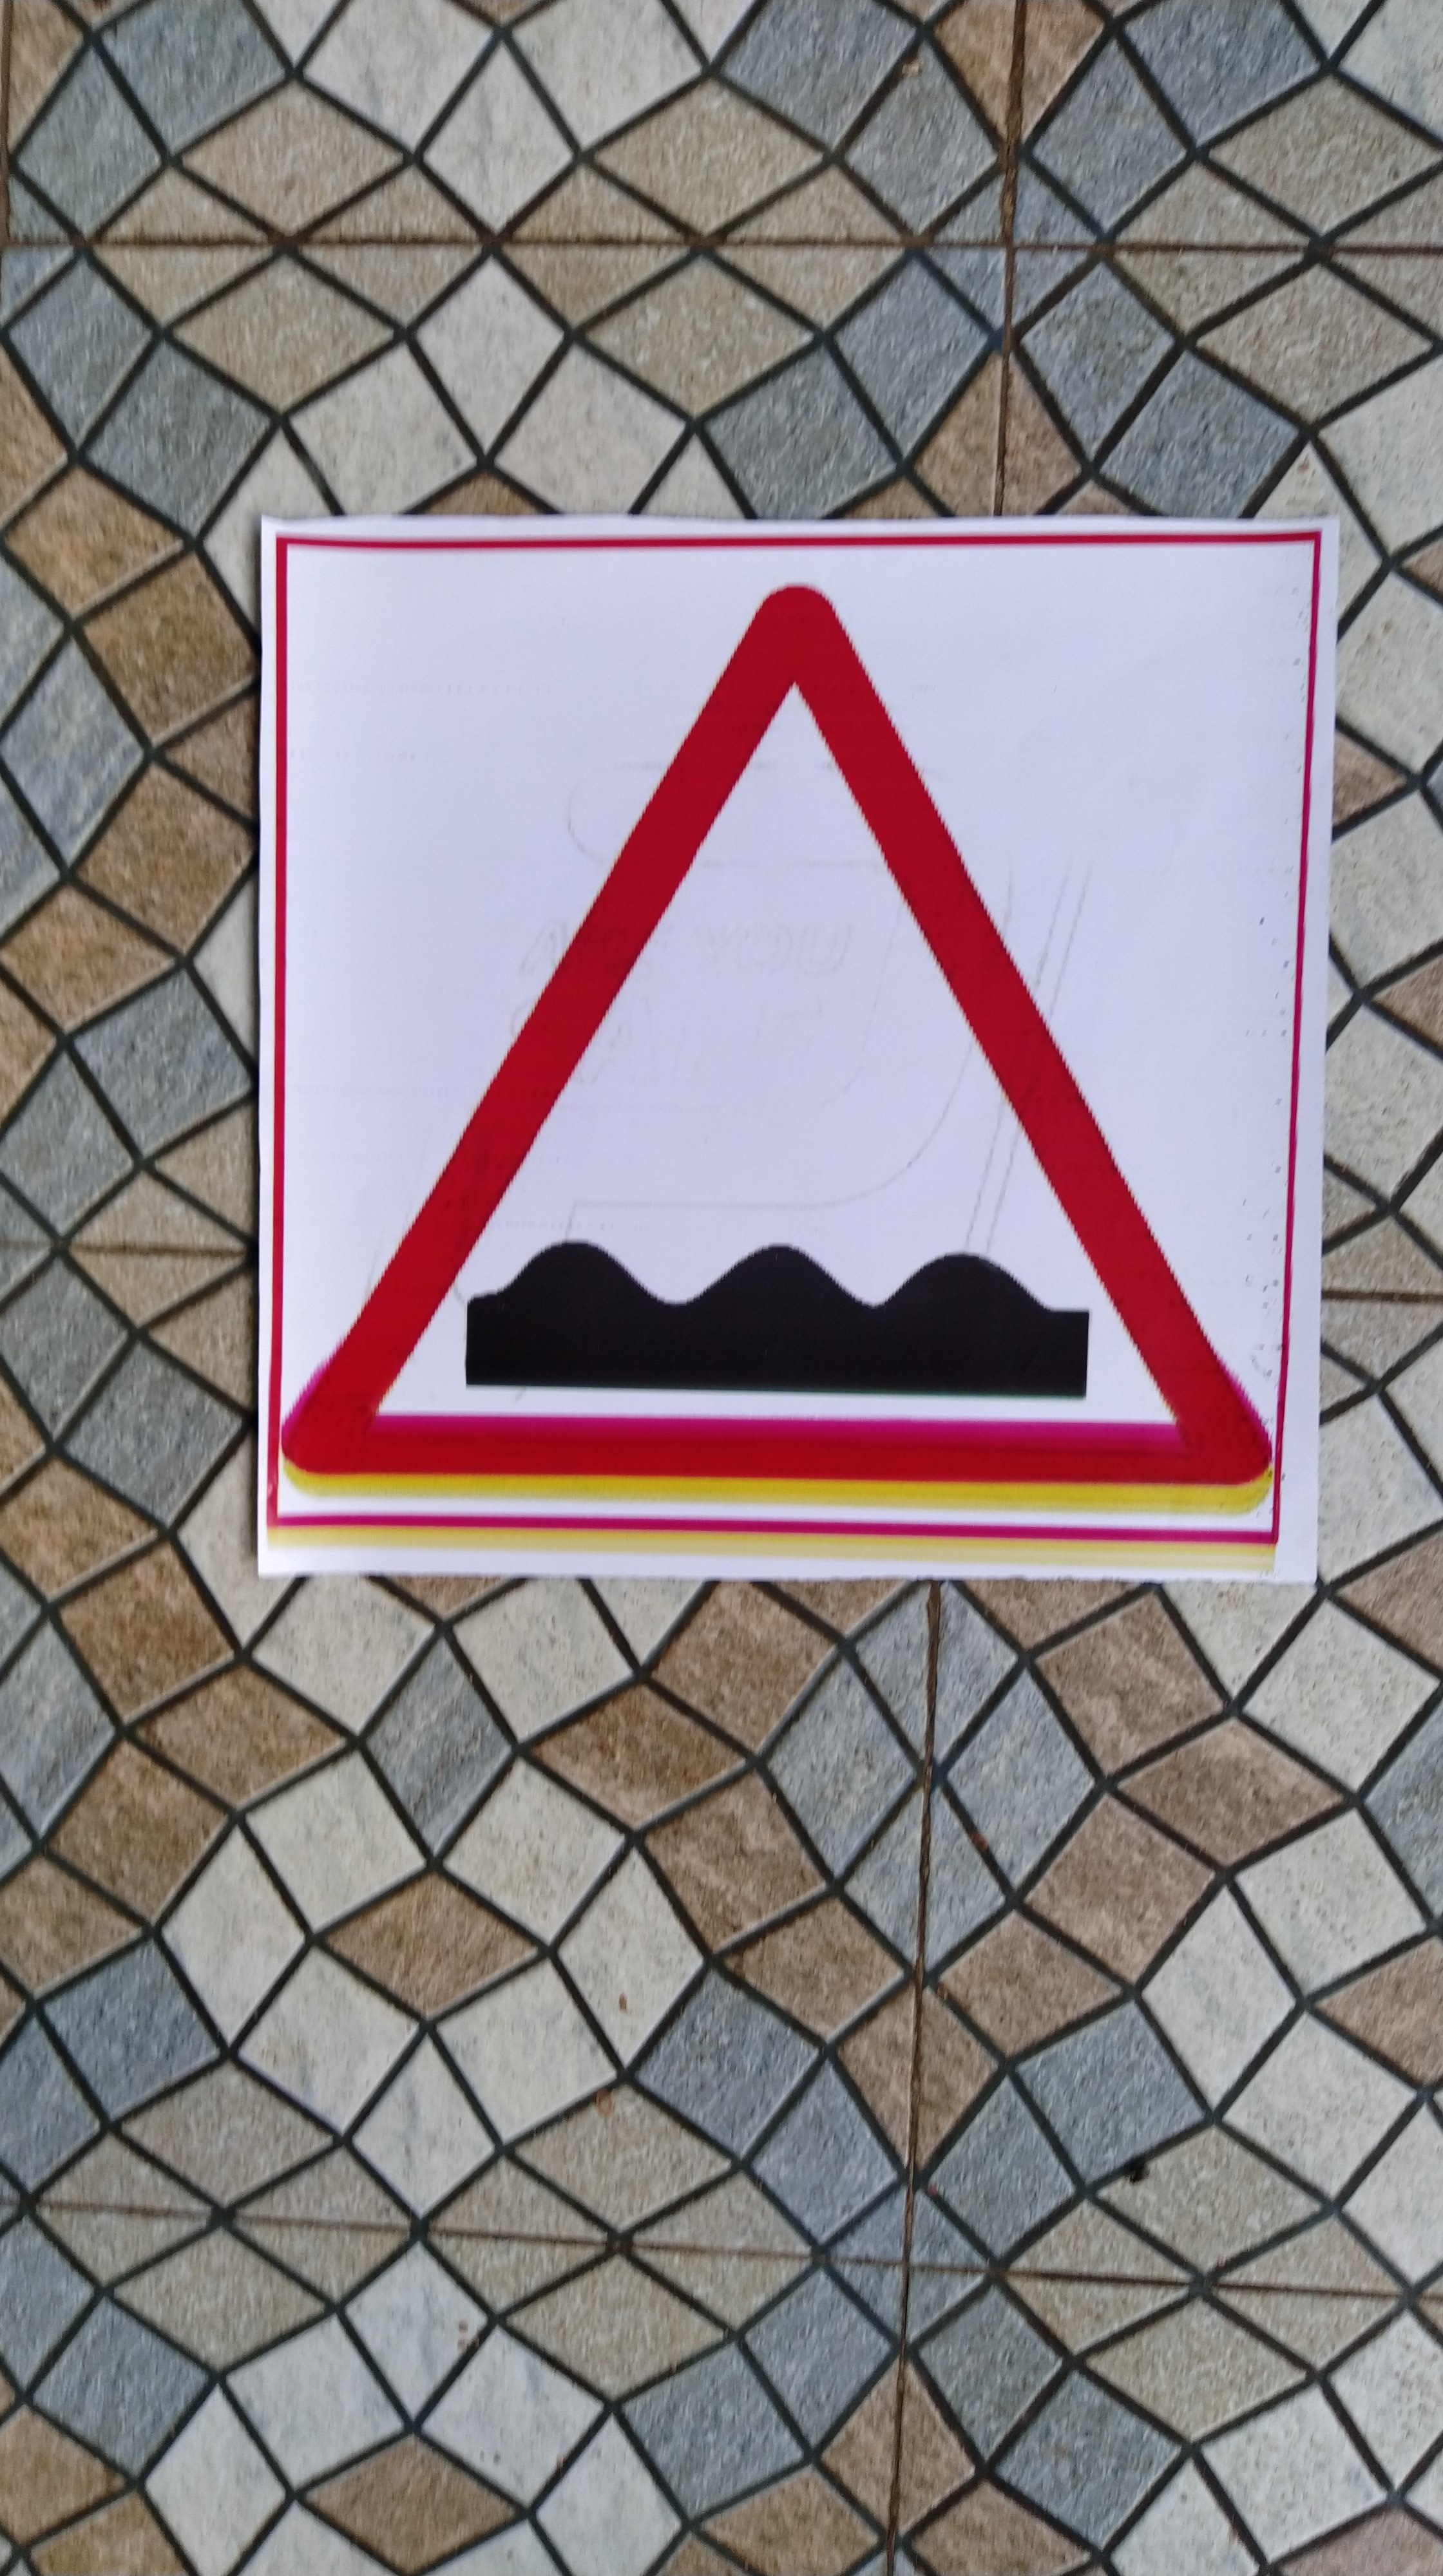speed breaker: (260, 541, 1307, 1580)
